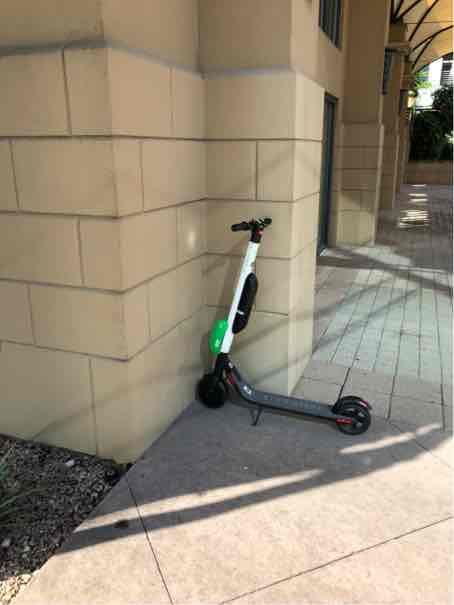scooter: (186, 209, 381, 429)
